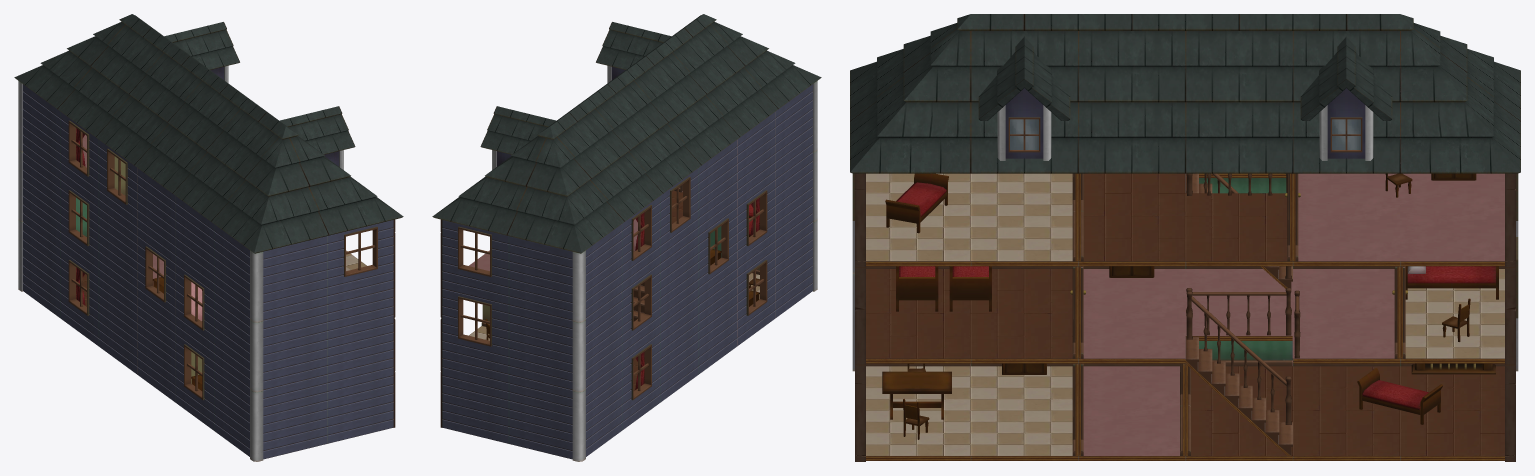
Rendered from modular_doll_house.glb.
3 renders of one model, left to right at view 1: azimuth 30°, elevation 25°; view 2: azimuth 150°, elevation 25°; view 3: azimuth 270°, elevation 25°, orthographic. The views are drawn at different scales.
Parts seen in each view (by area): view 1: Doll_house_stairs_M_1024x1024_Dollhouse_0, Doll_house_door_M_1024x1024_Dollhouse_Normals_0; view 2: Doll_house_stairs_M_1024x1024_Dollhouse_0, Doll_house_door_M_1024x1024_Dollhouse_Normals_0; view 3: Doll_house_door_M_1024x1024_Dollhouse_Normals_0, Doll_house_floor01_M_Carpet_foor_0, Doll_house_stairs_M_1024x1024_Dollhouse_0, Doll_house_floor04_M_wooden_floor_0, Doll_house_floor03_M_Tile_floor_0.
Boxes of the visible parts, x1,y1,x2,y2 form: Doll_house_stairs_M_1024x1024_Dollhouse_0: (18, 81, 395, 461); Doll_house_door_M_1024x1024_Dollhouse_Normals_0: (14, 14, 403, 253); Doll_house_stairs_M_1024x1024_Dollhouse_0: (440, 81, 817, 461); Doll_house_door_M_1024x1024_Dollhouse_Normals_0: (432, 14, 821, 253); Doll_house_door_M_1024x1024_Dollhouse_Normals_0: (850, 14, 1520, 294); Doll_house_floor01_M_Carpet_foor_0: (866, 173, 1504, 455); Doll_house_stairs_M_1024x1024_Dollhouse_0: (852, 173, 1518, 461); Doll_house_floor04_M_wooden_floor_0: (1083, 173, 1504, 455); Doll_house_floor03_M_Tile_floor_0: (866, 173, 1504, 455).
Size of the model in its own units: 0.0225 by 0.0413 by 0.0625.
6 materials, 6 textured.
